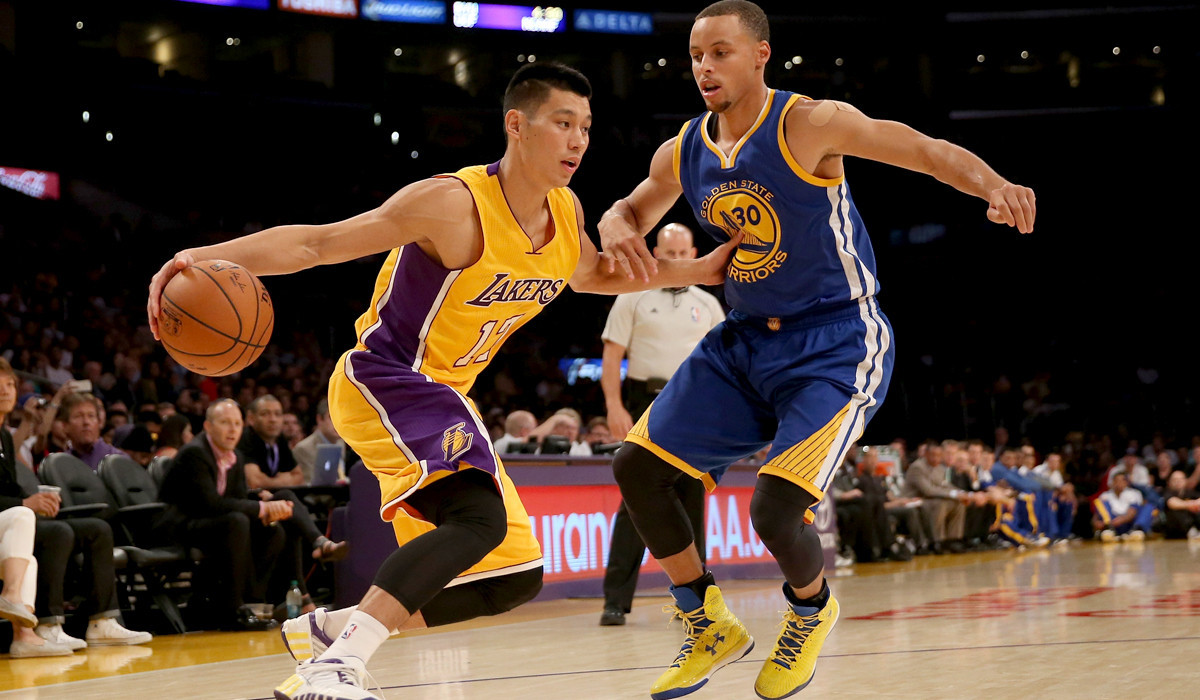Basketball: (154, 255, 276, 382)
